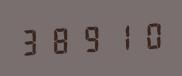eight: (47, 22, 75, 56)
nine: (76, 20, 104, 55)
one: (105, 19, 133, 53)
three: (18, 23, 46, 58)
zero: (134, 17, 162, 52)
